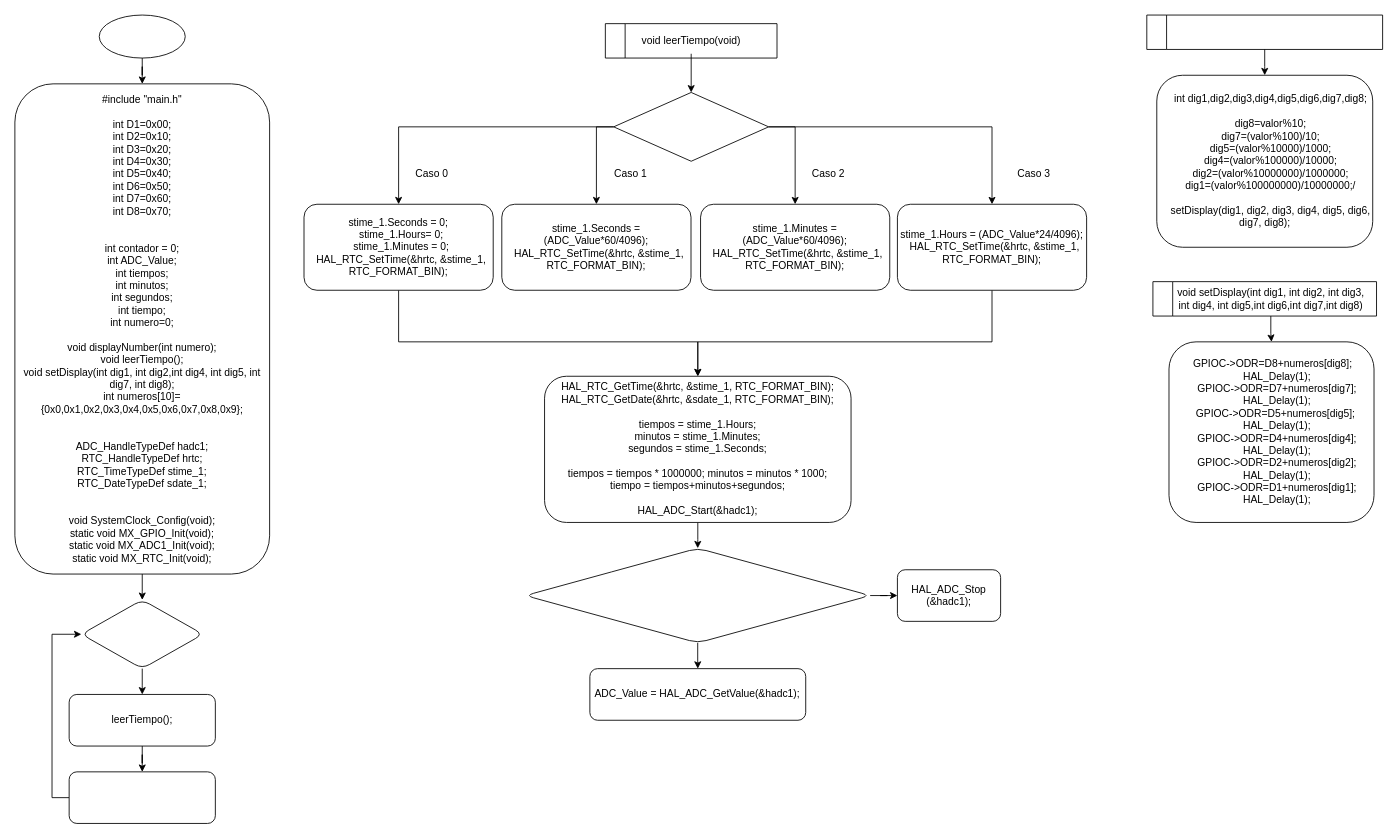
Image size: 1398x839. Some labels were removed from this diagram. Here are the shapes that lost their labels. From the top down, the centre of each, then its label:
point 141,36: START
point 1264,31: void displayNumber(int valor)
point 691,126: switch(contador)
point 697,595: if(HAL_ADC_PollForConversion(&hadc1,5) == HAL_OK)
point 141,634: while(1)
point 141,797: displayNumber(tiempo);
